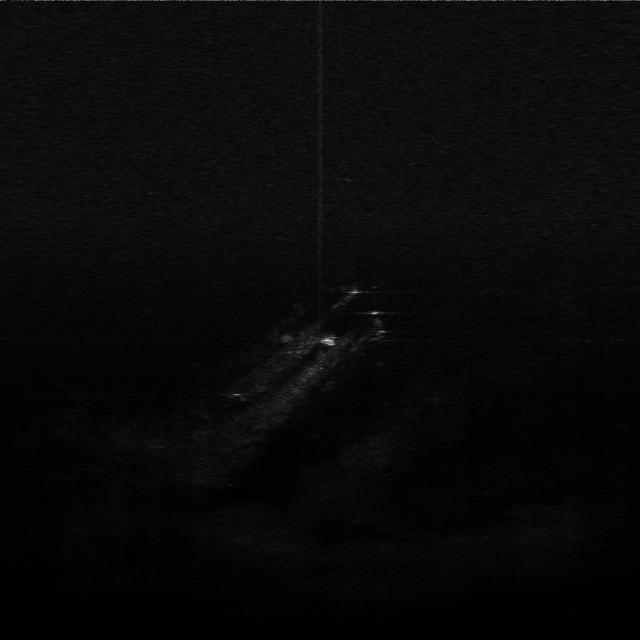rov: (313, 334, 342, 349)
